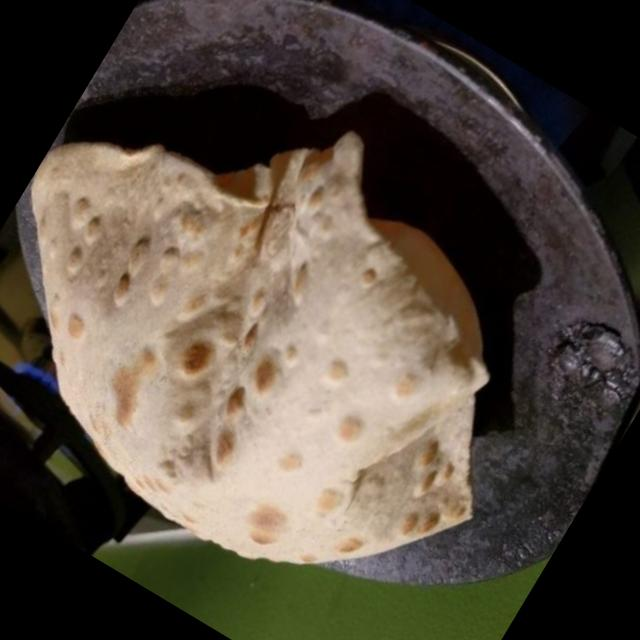roti: (29, 135, 471, 574)
